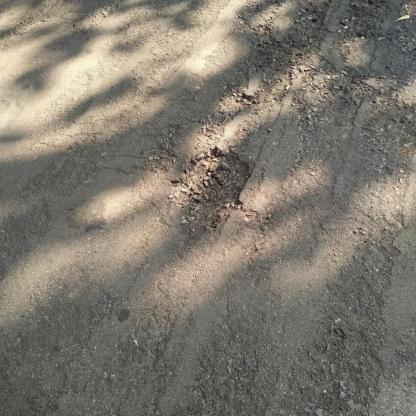pothole: (170, 151, 257, 230)
